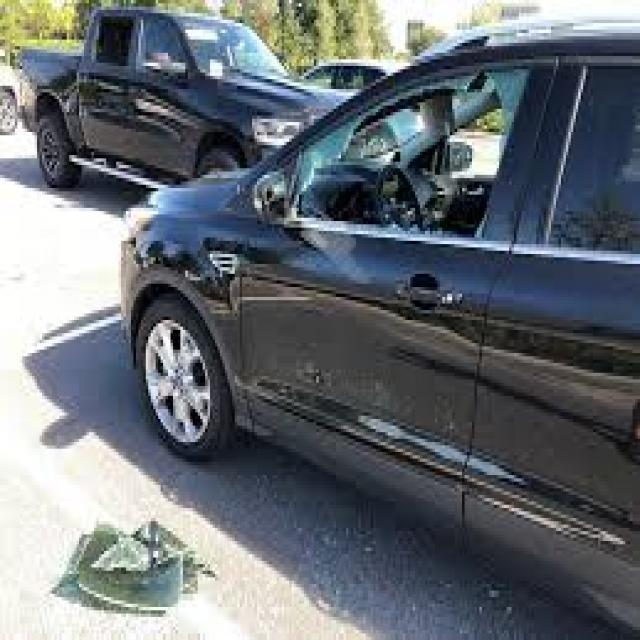damaged-window: (282, 52, 534, 241)
